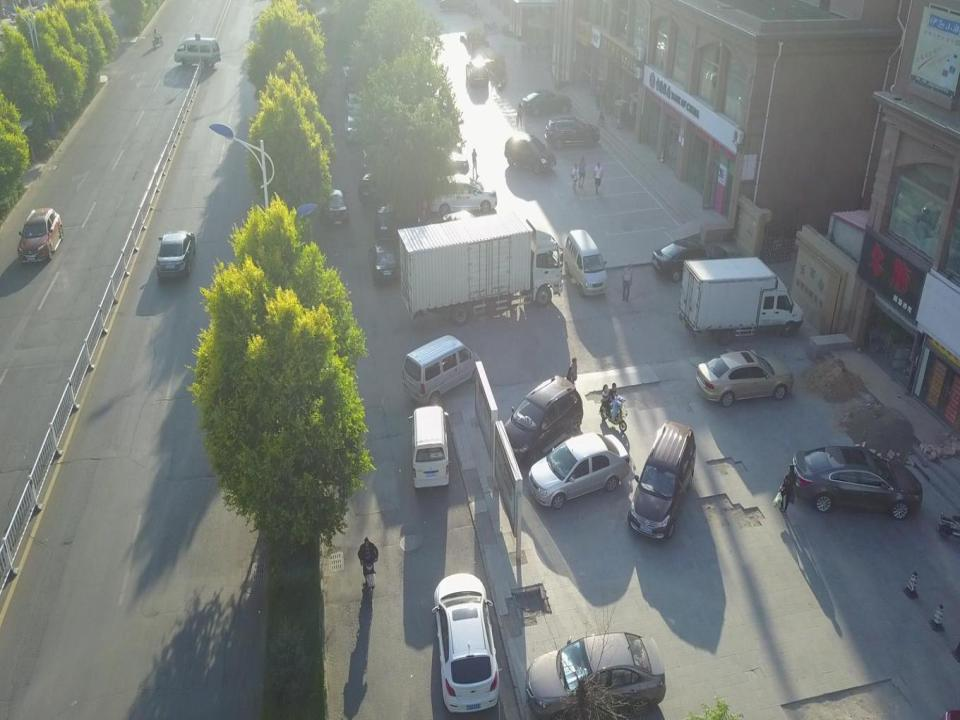car: (525, 629, 667, 720), (790, 446, 923, 520), (430, 572, 499, 714), (500, 374, 584, 472), (527, 432, 631, 509), (695, 350, 794, 408), (650, 238, 731, 282), (424, 173, 497, 212), (16, 206, 64, 263), (505, 131, 556, 173), (544, 114, 601, 149), (156, 229, 196, 278), (521, 88, 572, 116), (368, 241, 397, 281), (322, 187, 349, 229), (358, 166, 385, 204), (374, 200, 399, 240), (465, 60, 489, 89), (344, 115, 364, 143), (344, 92, 365, 115), (439, 0, 469, 12)
truck: (396, 210, 563, 326), (678, 255, 804, 345)
van: (627, 420, 698, 541), (402, 333, 481, 408), (408, 404, 450, 488), (563, 228, 608, 297), (174, 38, 221, 72)
